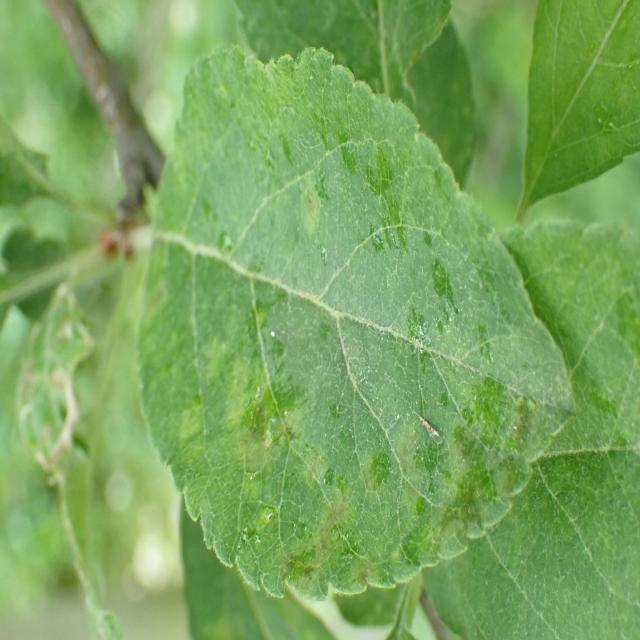scab: (156, 84, 571, 590)
